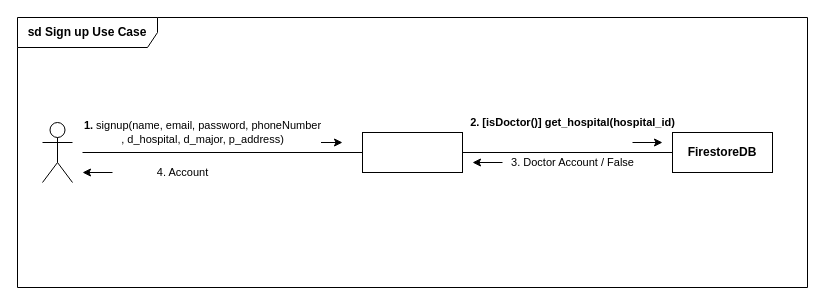
This 825x305 diagram has some shape labels left out. The shapes that lost their labels are listed below. From the top down, each one's centre as x and y in pixels, then its label:
the point at 57,152: :User
the point at 412,152: :Account
